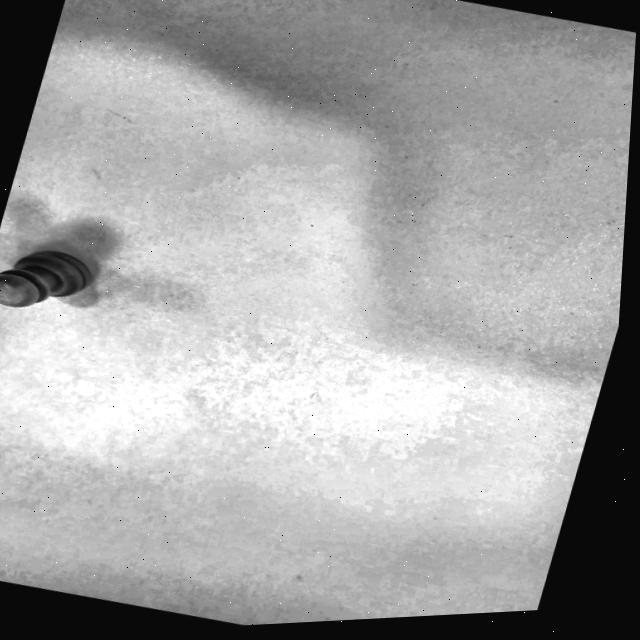white-pawn: (0, 218, 133, 348)
